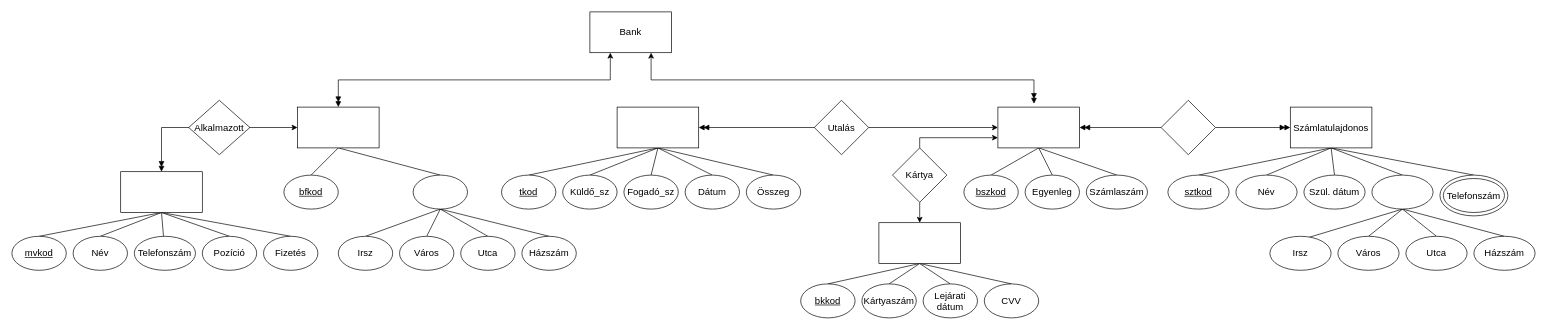
Some shapes in this 1547 by 330 pixel diagram are drawn without their labels. Here are the shapes that lost their labels. From the top down, the centre of each, then its label:
(338,127): Bankfiók
(657,127): Tranzakció
(1038,127): Bankszámla
(1188,127): Tulajdonos
(161,192): Munkavállaló
(440,191): Cím
(1402,191): Lakcím
(919,243): Bankkártya
